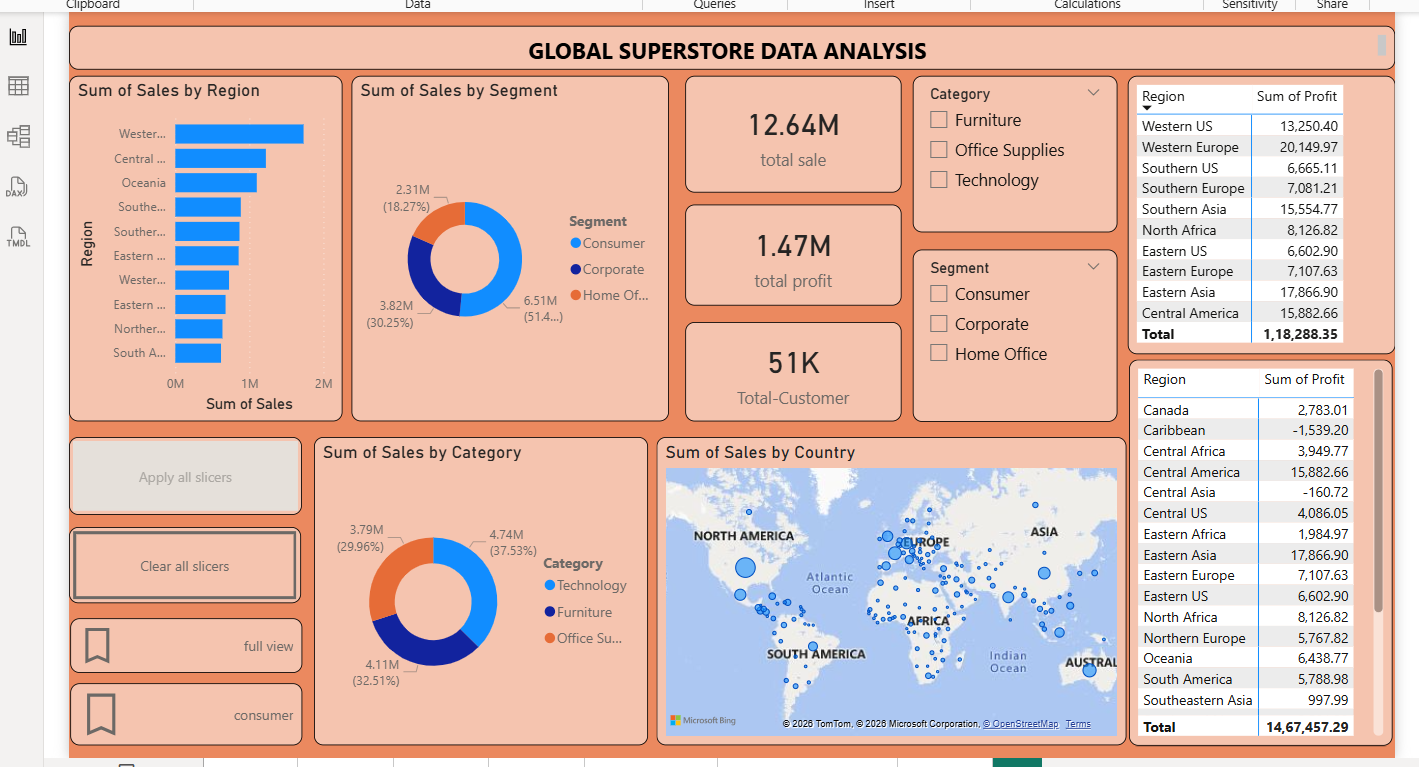

The page's visual inventory and layout, read from the dashboard file:
{"tool":"powerbi","page":{"name":"Page 1","canvas":[1280,720],"ordinal":0},"visuals":[{"type":"clusteredBarChart","fields":{"Y":["Sum(Orders.Sales)"],"Category":["Orders.Region"]},"box":[0,61.2,263.8,333.8],"z":0},{"type":"donutChart","fields":{"Y":["Sum(Orders.Sales)"],"Category":["Orders.Category"]},"box":[236.2,410,322.5,297.5],"z":1000},{"type":"pivotTable","fields":{"Rows":["Returns.Region"],"Values":["Sum(Orders.Profit)"]},"box":[1021.9,61.5,258.2,269],"z":2000},{"type":"map","fields":{"Category":["Orders.Country"],"Size":["Sum(Orders.Sales)"]},"box":[567.5,410,453.8,297.5],"z":3000},{"type":"pivotTable","fields":{"Rows":["Returns.Region"],"Values":["Sum(Orders.Profit)"]},"box":[1023.1,335.4,254.6,372.8],"z":4000},{"type":"card","fields":{"Values":["Date_table.total sale"]},"box":[595,61.2,208.8,112.5],"z":5000},{"type":"card","fields":{"Values":["Date_table.total profit"]},"box":[595,186.2,208.8,97.5],"z":6000},{"type":"donutChart","fields":{"Y":["Sum(Orders.Sales)"],"Category":["Orders.Segment"]},"box":[272.5,61.2,306.2,333.8],"z":7000},{"type":"slicer","fields":{"Values":["Orders.Segment"]},"box":[813.8,228.8,197.5,166.2],"z":8000},{"type":"slicer","fields":{"Values":["Orders.Category"]},"box":[813.8,61.2,197.5,151.2],"z":11000},{"type":"card","fields":{"Values":["Date_table.Total-Customer"]},"box":[595,298.8,208.8,96.2],"z":12000},{"type":"actionButton","box":[0,410,225,75],"z":13000},{"type":"actionButton","box":[0,497.5,223.8,73.8],"z":14000},{"type":"textbox","box":[0,13.3,1280,42.2],"z":15000},{"type":"actionButton","box":[1.2,585,223.8,52.5],"z":15001},{"type":"actionButton","box":[1.2,647.5,223.8,60],"z":15002}]}

Visuals, with their boxes in screenshot pixels (x1, y1, x2, y2):
clusteredBarChart - Sum(Orders.Sales) x Orders.Region: (x1=52, y1=68, x2=329, y2=420)
donutChart - Sum(Orders.Sales) x Orders.Category: (x1=300, y1=435, x2=640, y2=749)
pivotTable - Returns.Region x Sum(Orders.Profit): (x1=1128, y1=68, x2=1399, y2=352)
map - Orders.Country x Sum(Orders.Sales): (x1=649, y1=435, x2=1127, y2=749)
pivotTable - Returns.Region x Sum(Orders.Profit): (x1=1129, y1=357, x2=1397, y2=749)
card - Date_table.total sale: (x1=678, y1=68, x2=898, y2=187)
card - Date_table.total profit: (x1=678, y1=200, x2=898, y2=302)
donutChart - Sum(Orders.Sales) x Orders.Segment: (x1=339, y1=68, x2=661, y2=420)
slicer - Orders.Segment: (x1=908, y1=245, x2=1116, y2=420)
slicer - Orders.Category: (x1=908, y1=68, x2=1116, y2=227)
card - Date_table.Total-Customer: (x1=678, y1=318, x2=898, y2=420)
actionButton: (x1=52, y1=435, x2=289, y2=514)
actionButton: (x1=52, y1=527, x2=287, y2=605)
textbox: (x1=52, y1=18, x2=1399, y2=62)
actionButton: (x1=53, y1=620, x2=289, y2=675)
actionButton: (x1=53, y1=685, x2=289, y2=749)
